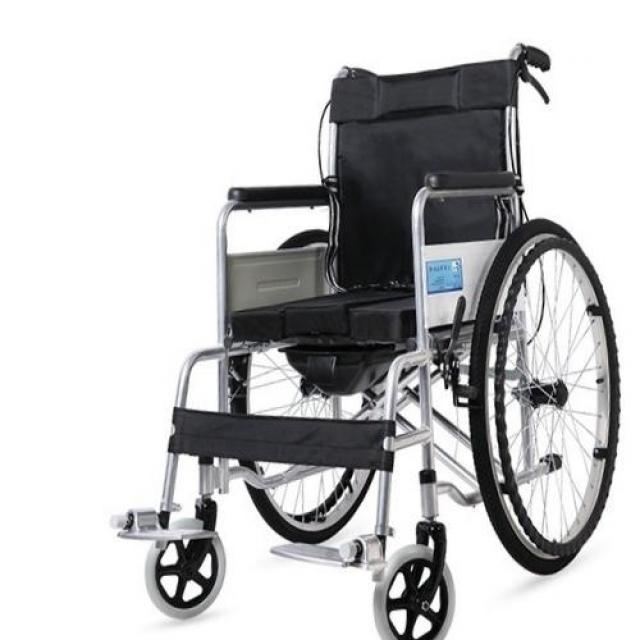wheelchair: (103, 28, 640, 640)
